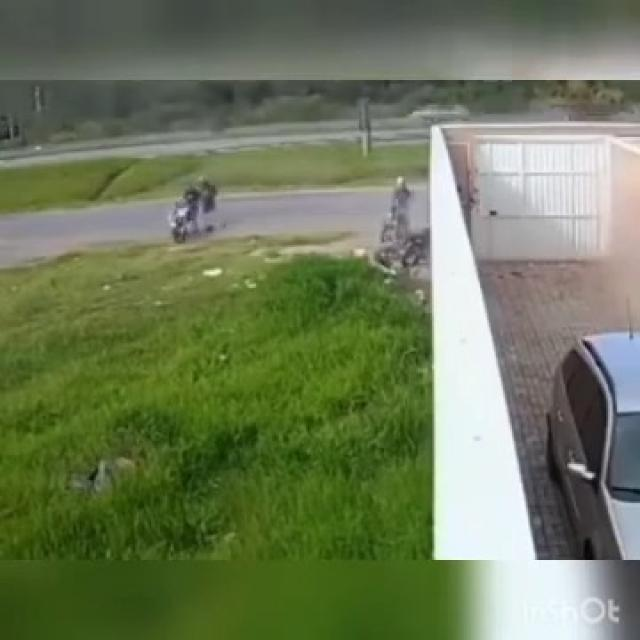accident: (360, 215, 444, 272)
